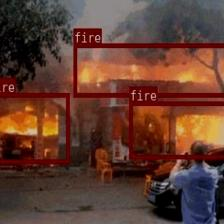fire: (73, 42, 224, 96), (129, 101, 224, 158), (0, 93, 68, 162)
